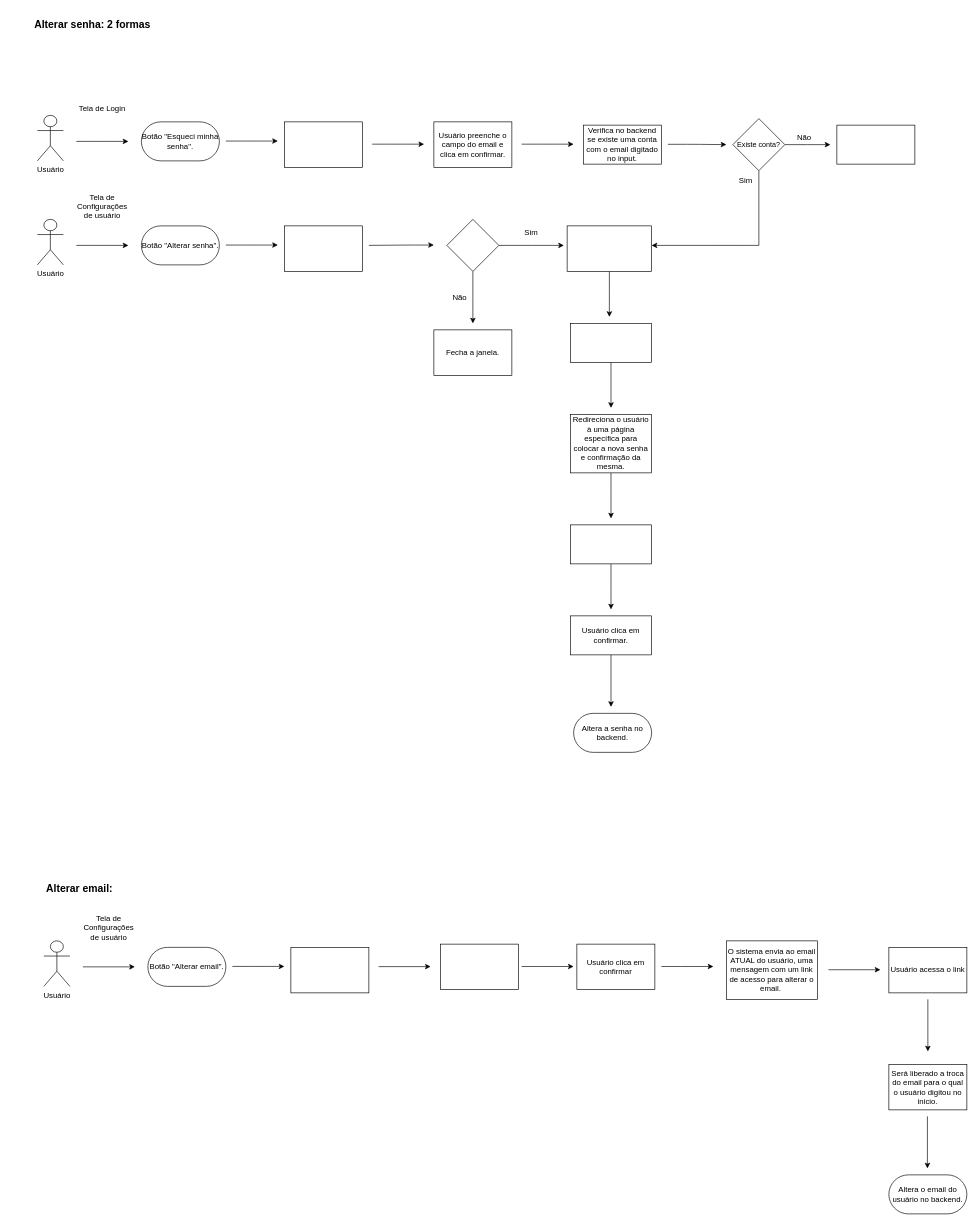
The diagram is 978 pixels wide and 1225 high, and some of its shapes have lost their labels. The shapes that lost their labels are listed below. From the top down, each one's centre as x and y in pixels, then its label:
At (323,144): "Ao clicar, abre uma janela para colocar o email cadastrado do usuário.".
At (875,144): "Retorna mensagem de erro para o usuário.".
At (323,248): "Ao clicar, abre uma janela de confirmação se realmente deseja alterar a senha.".
At (472,245): "Alterar senha?".
At (609,248): "Envia ao email digitado uma mensagem com um link de acesso para alterar a senha.".
At (611,342): "Usuário clica no link de acesso".
At (611,544): "Usuário preenche os campos necessários (Nova senha, Confirmar Senha)".
At (329,970): "Ao clicar, abre uma janela para digitar o novo email e confirmação do mesmo.".
At (479,966): "Usuário preenche os campos de novo email e confirmação do mesmo.".
